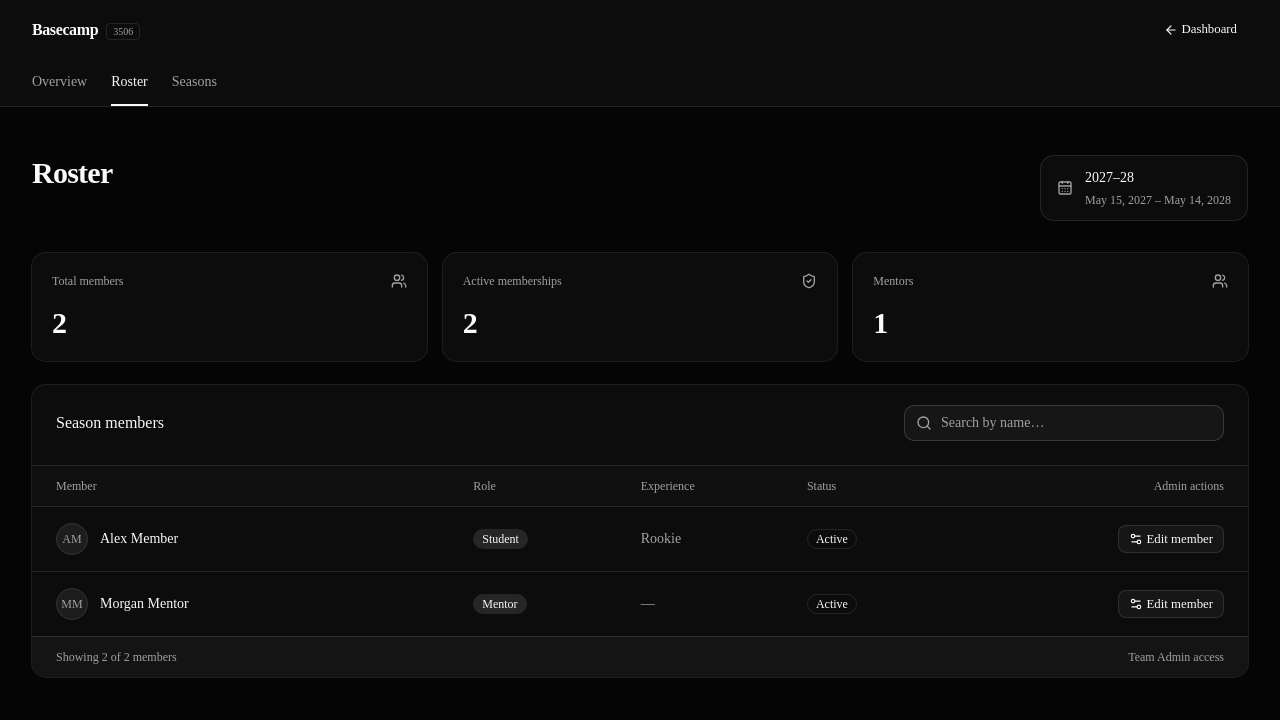
Scenario: shows a recoverable error when saving cannot reach the API
This screenshot has width=1280, height=720.
Click the button with aria-label "Edit member Alex Member": (1171, 539) x1=1118 y1=525 x2=1224 y2=553
(page scrolled)
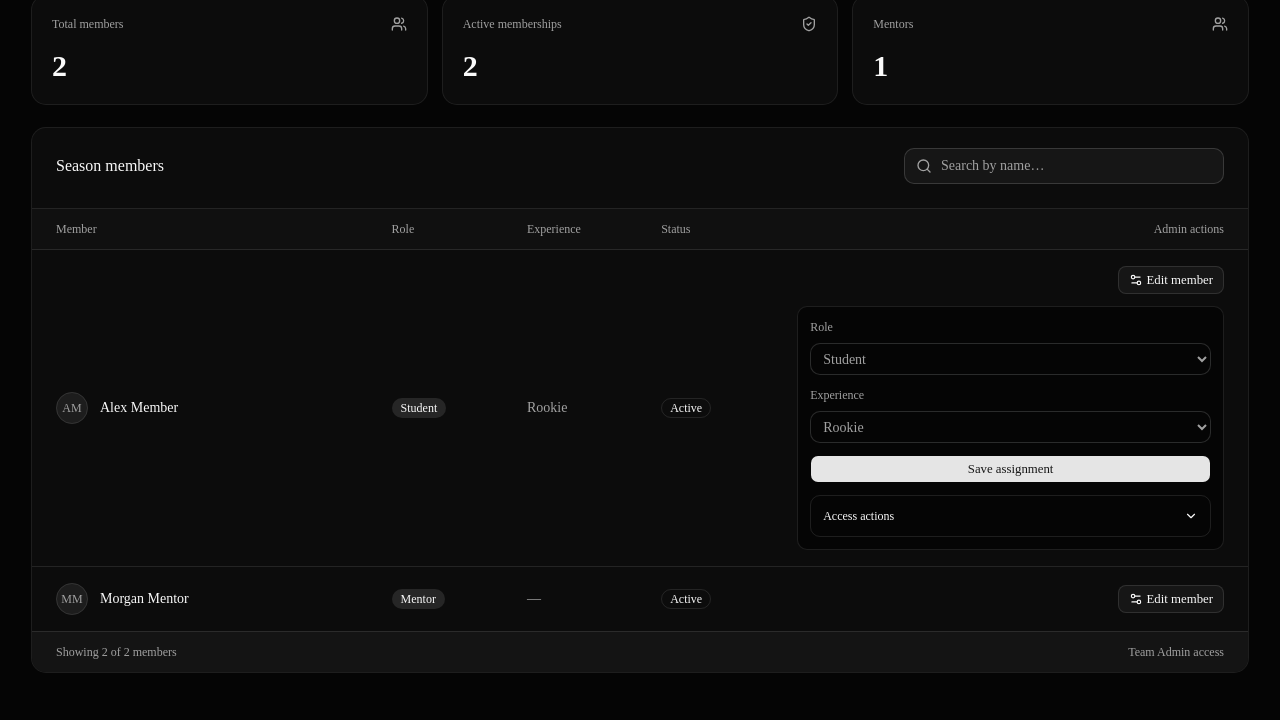
Click the button "Save assignment": (1011, 469) x1=810 y1=455 x2=1211 y2=483
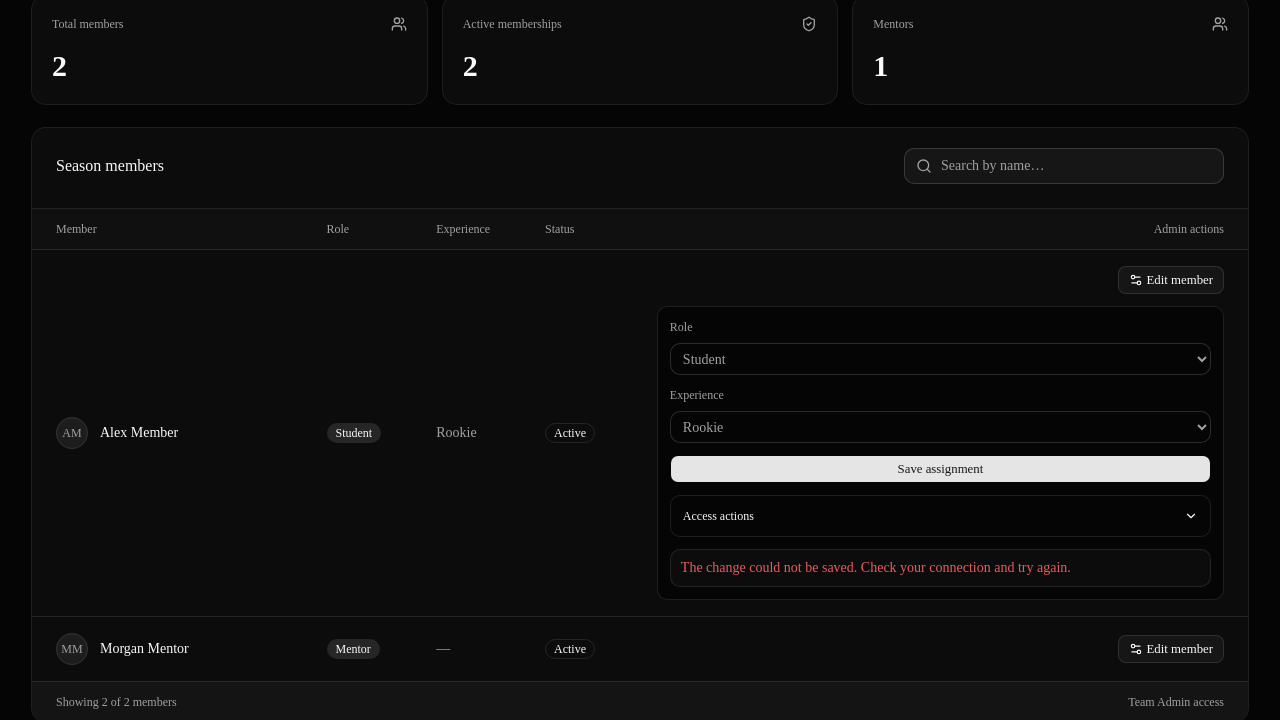
Expected: the button "Save assignment" is enabled, x1=670 y1=455 x2=1211 y2=483
Expected: the message "The change could not be saved. Check your connection and try again." is shown, x1=670 y1=549 x2=1211 y2=587
